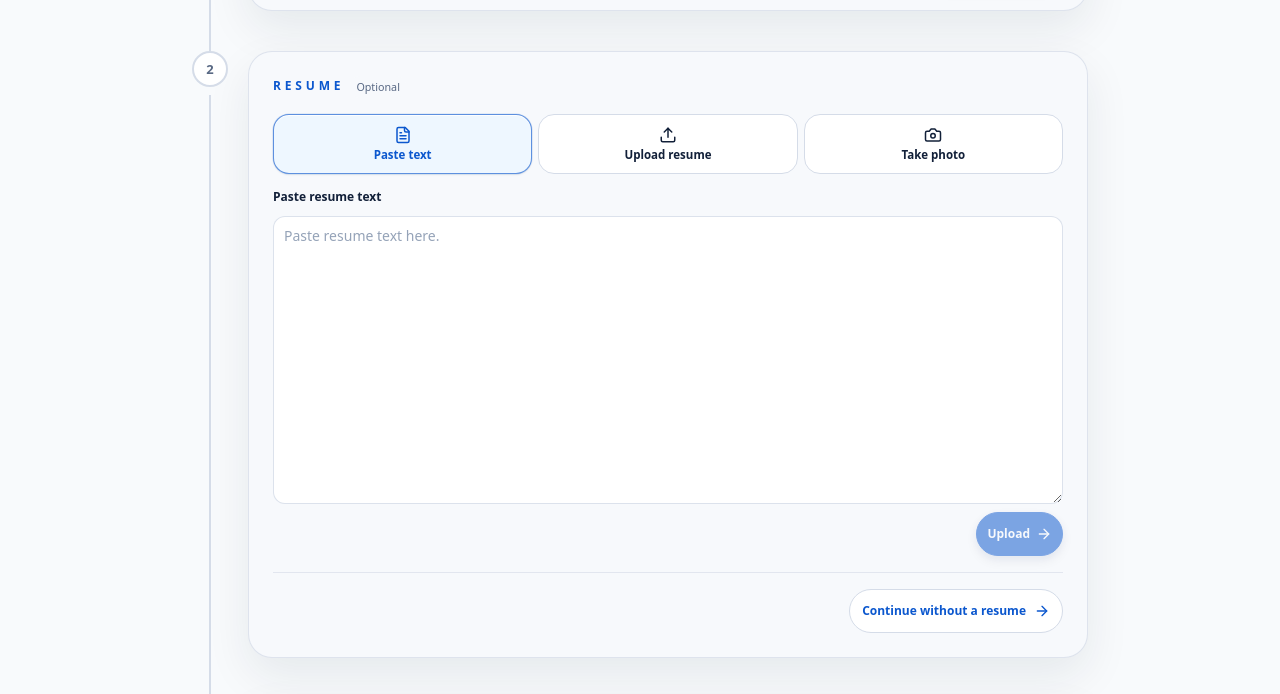
it: returns an older-policy review to the processing step without losing its text
(page scrolled)
Type "Supported a high-volume front desk." into the text box labelled "Paste resume text". click: (668, 360)
box: top-left (273, 216), bottom-right (1063, 504)
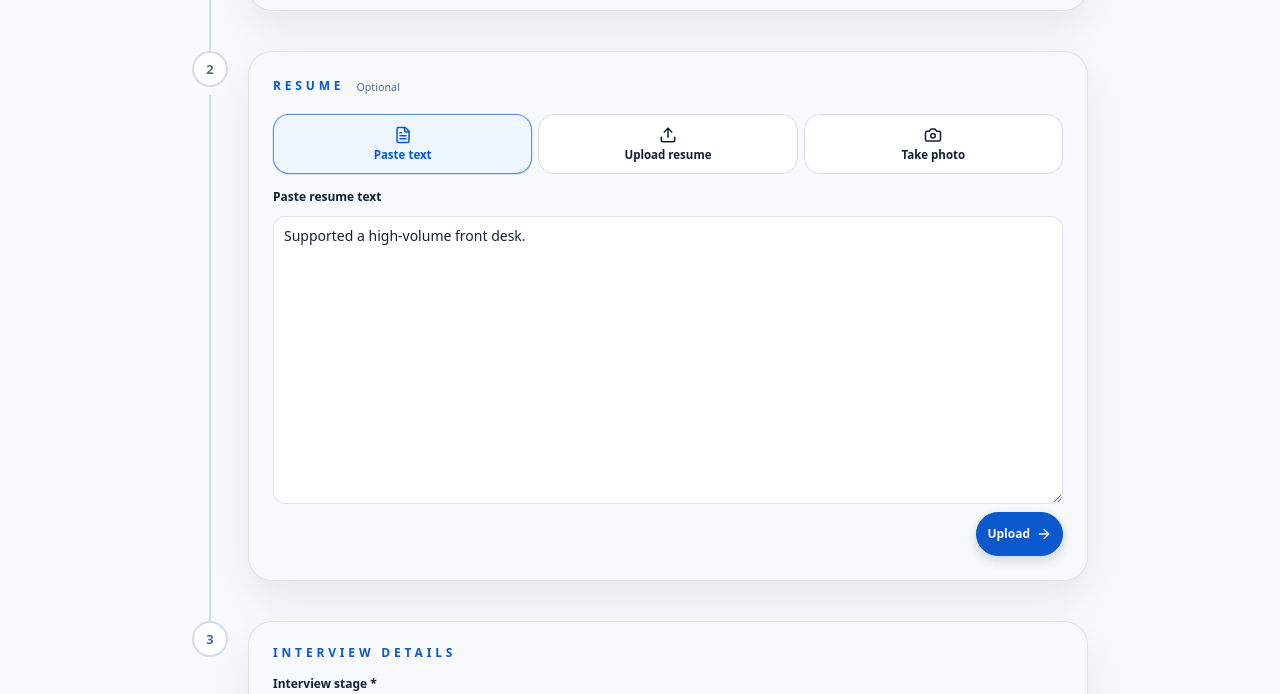
Click the button "Upload". click: (1020, 534)
box: top-left (976, 512), bottom-right (1063, 556)
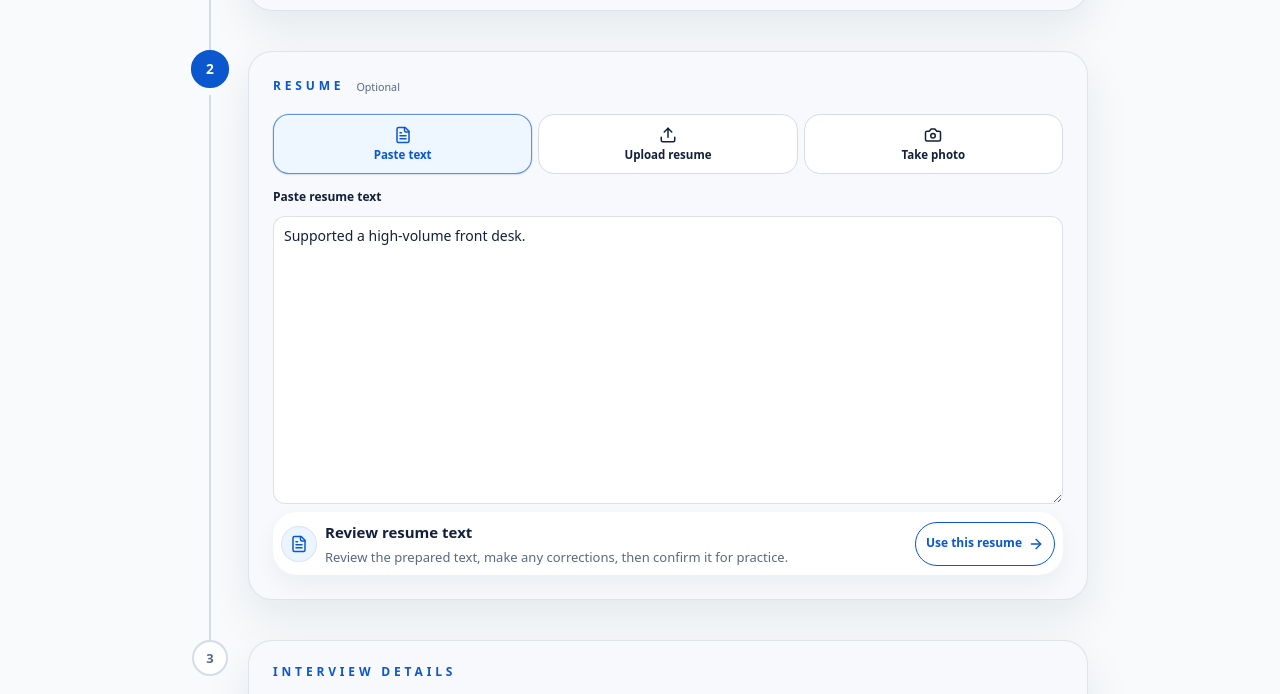
Click the button "Use this resume". click: (985, 544)
box: top-left (915, 522), bottom-right (1055, 566)
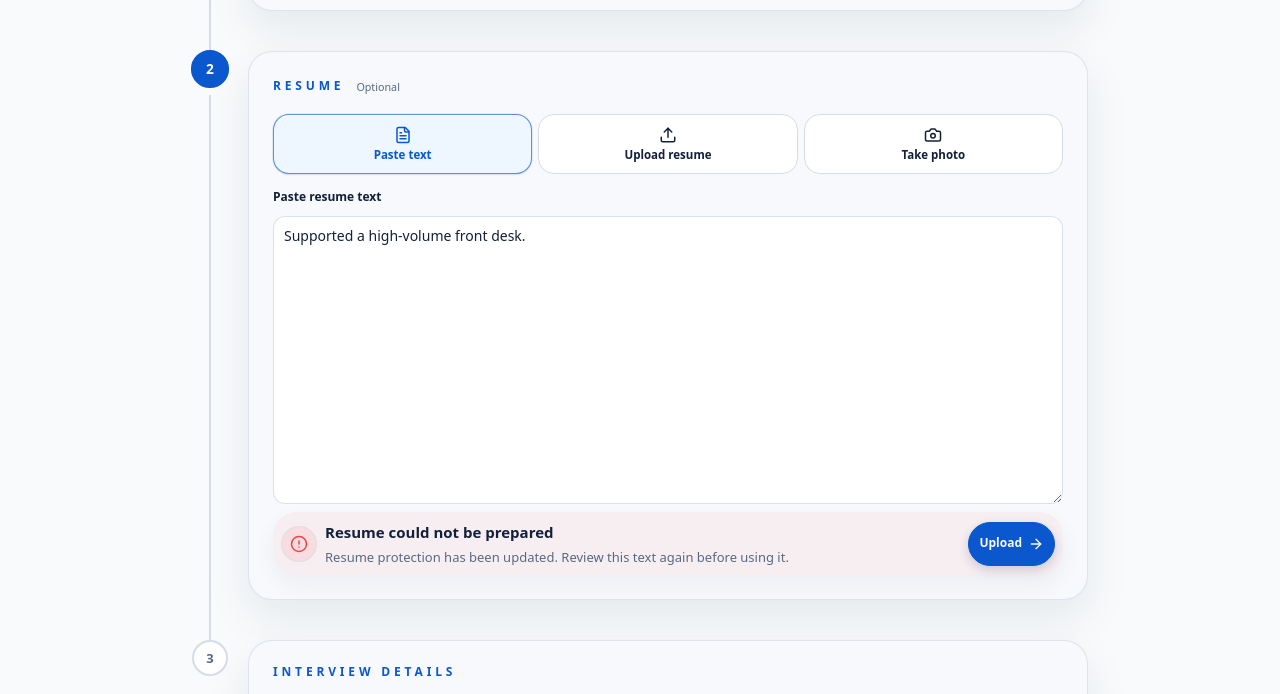
Expected: the button "Upload" is shown, top-left (968, 522), bottom-right (1055, 566)
Expected: the text "Resume protection has been updated" is shown, top-left (325, 548), bottom-right (789, 566)
